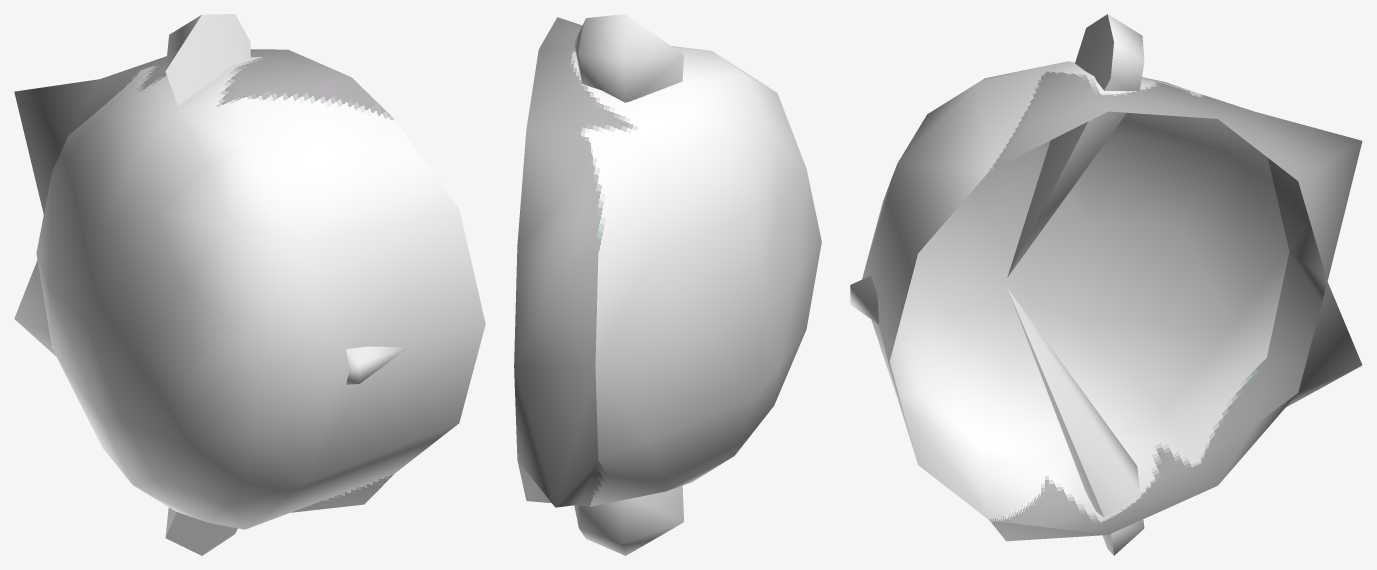
Rendered from boy02b.dae.
3 renders of one model, left to right at view 1: azimuth 30°, elevation 25°; view 2: azimuth 150°, elevation 25°; view 3: azimuth 270°, elevation 25°, orthographic.
Parts seen in each view (by area): view 1: boy02b; view 2: boy02b; view 3: boy02b.
Part boxes in pixels (x1=…): boy02b: x1=14, y1=14, x2=485, y2=555; boy02b: x1=514, y1=14, x2=821, y2=555; boy02b: x1=850, y1=14, x2=1362, y2=555.
Bounding box in the file's own units: 15.5 × 26.71 × 23.17.
3 materials, 1 textured.
